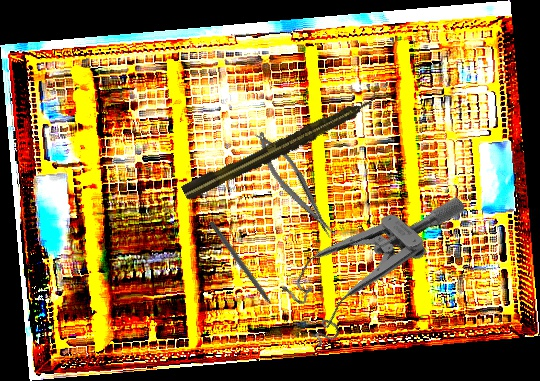Handpiece: (179, 90, 383, 203)
Hook Surgical: (207, 220, 281, 317)
Needle Holder: (249, 125, 340, 246)
Speculum: (268, 149, 468, 360)
